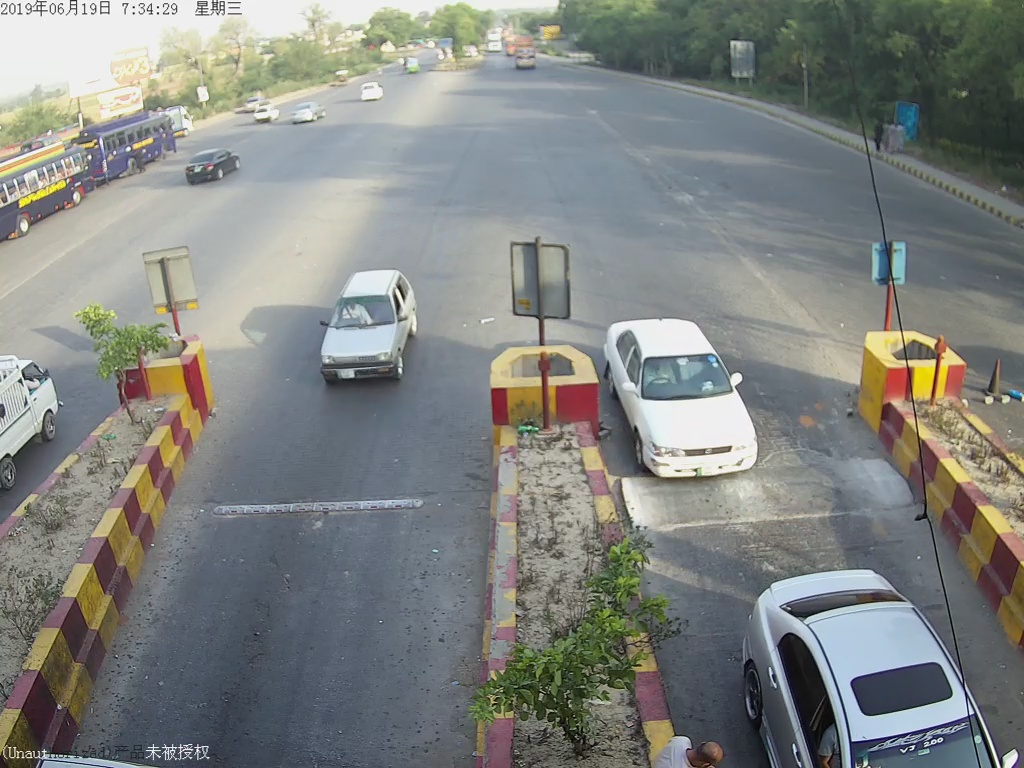Cat-1: (610, 324, 771, 485), (310, 259, 421, 383)
